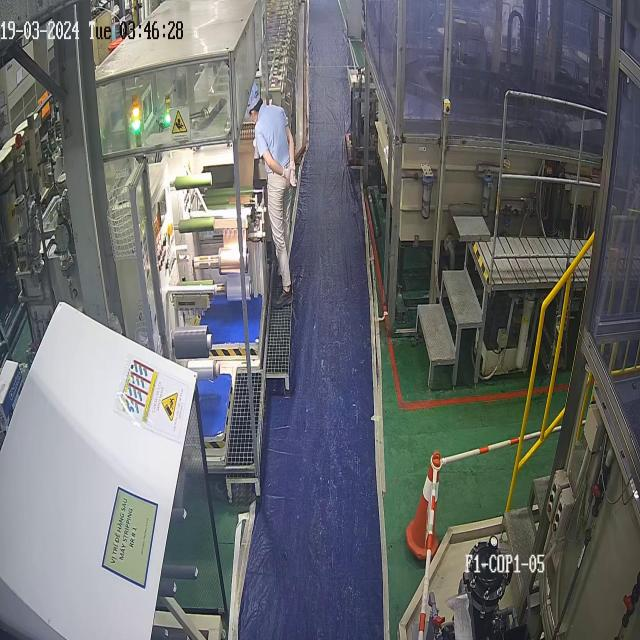Person: (247, 82, 296, 308)
